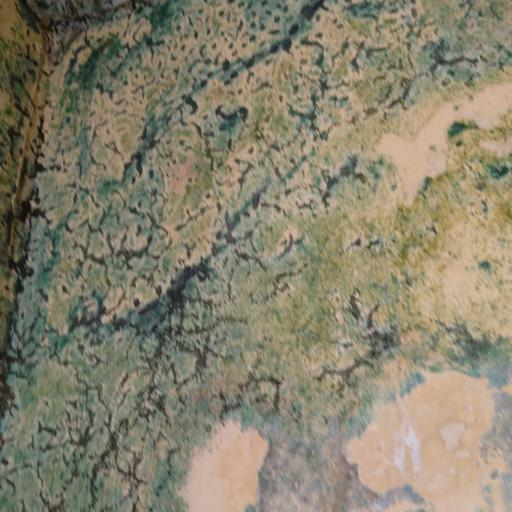algae: (0, 0, 449, 418)
